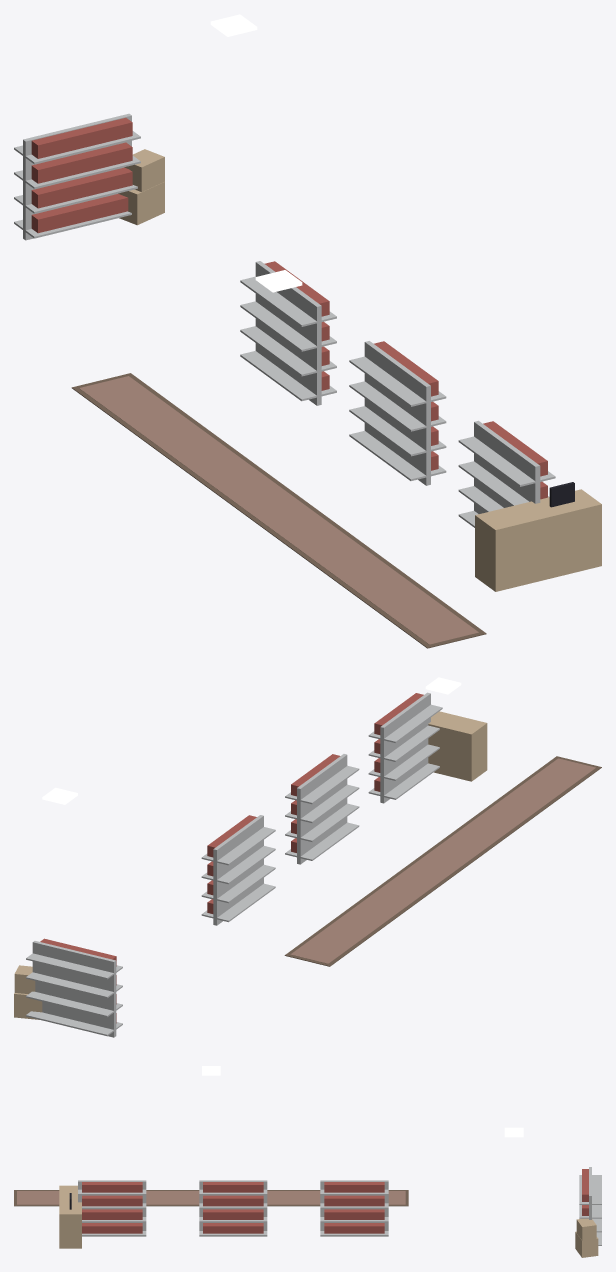
Rendered from fine-s0.glb.
The picture shows the model from 3 angles, top to bottom: view 1: azimuth 30°, elevation 25°; view 2: azimuth 150°, elevation 25°; view 3: azimuth 270°, elevation 25°; orthographic projection. The views are drawn at different scales.
Parts seen in each view (by area): view 1: soft-s0, shelving.000, shop-counter.000, shelf.001, shelf.000, shelf.002, cardboard-box.000; view 2: soft-s0, shelving.000, shelf.000, shelf.001, shelf.002, shop-counter.000, cardboard-box.000; view 3: shelf.000, shelf.001, shelf.002, soft-s0, shop-counter.000, shelving.000, cardboard-box.000.
Boxes of the visible parts, x1,y1,x2,y2 form: soft-s0: (71,373,486,648); shelving.000: (14,113,140,240); shop-counter.000: (475,482,601,591); shelf.001: (349,341,446,485); shelf.000: (240,261,336,405); shelf.002: (458,420,555,527); cardboard-box.000: (118,149,164,225); soft-s0: (284,756,601,966); shelving.000: (26,938,122,1037); shelf.000: (201,815,275,925); shelf.001: (285,754,359,864); shelf.002: (368,692,442,803); shop-counter.000: (428,711,487,781); cardboard-box.000: (14,965,42,1019); shelf.000: (320,1180,388,1236); shelf.001: (199,1180,267,1236); shelf.002: (78,1180,146,1236); soft-s0: (14,1190,408,1206); shop-counter.000: (59,1185,81,1248); shelving.000: (579,1167,601,1245); cardboard-box.000: (575,1218,598,1257).
Size of the model in its own units: 4.61 by 3.74 by 15.54.
